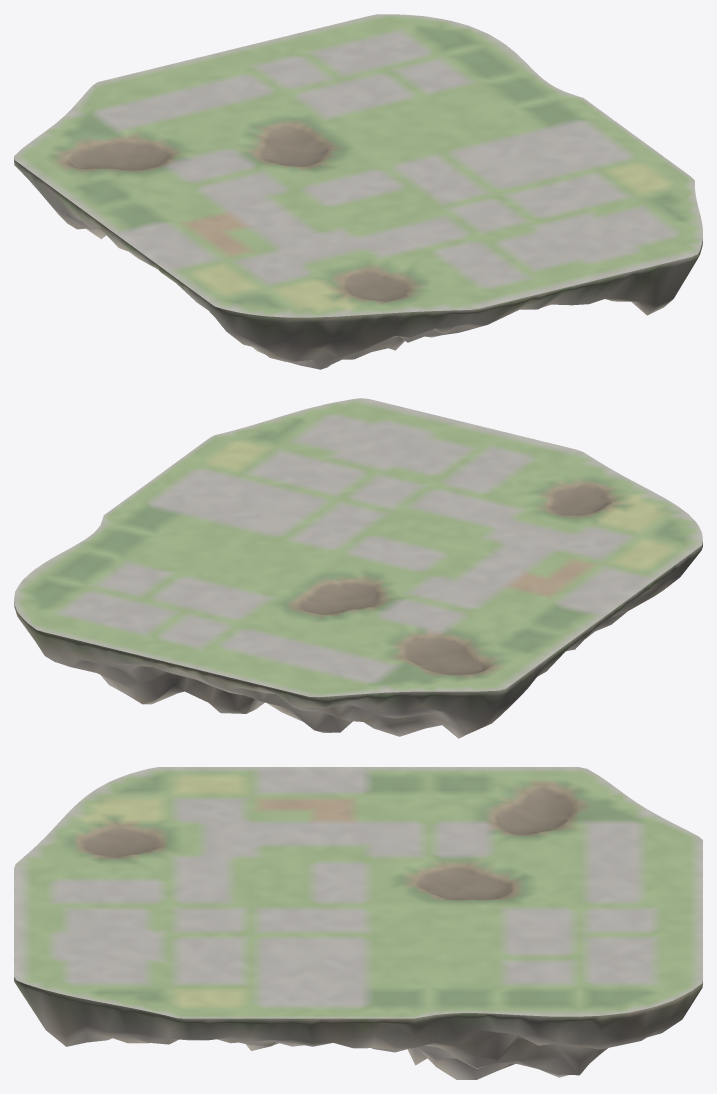
Rendered from SKY-008.rock.glb.
The picture shows the model from 3 angles, top to bottom: view 1: azimuth 30°, elevation 25°; view 2: azimuth 150°, elevation 25°; view 3: azimuth 270°, elevation 25°; orthographic projection. The views are drawn at different scales.
Parts seen in each view (by area): view 1: deck-col, rock; view 2: deck-col, rock; view 3: deck-col, rock.
Boxes of the visible parts, x1,y1,x2,y2 form: deck-col: (14,14,702,317); rock: (14,158,702,369); deck-col: (14,398,702,697); rock: (14,542,702,738); deck-col: (14,767,702,1018); rock: (14,977,702,1079).
Size of the model in its own units: 174 by 52.03 by 201.
